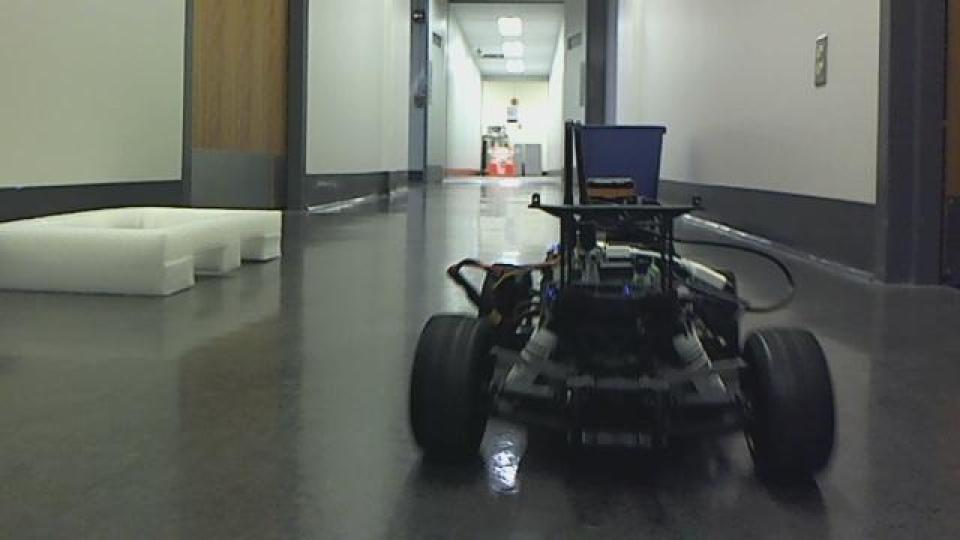car: (405, 191, 840, 489)
